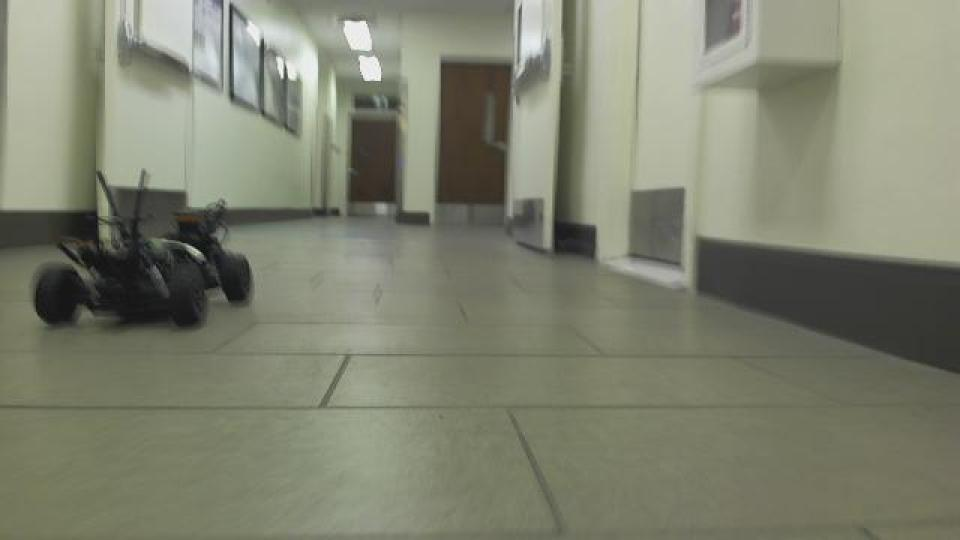car: (27, 165, 255, 333)
